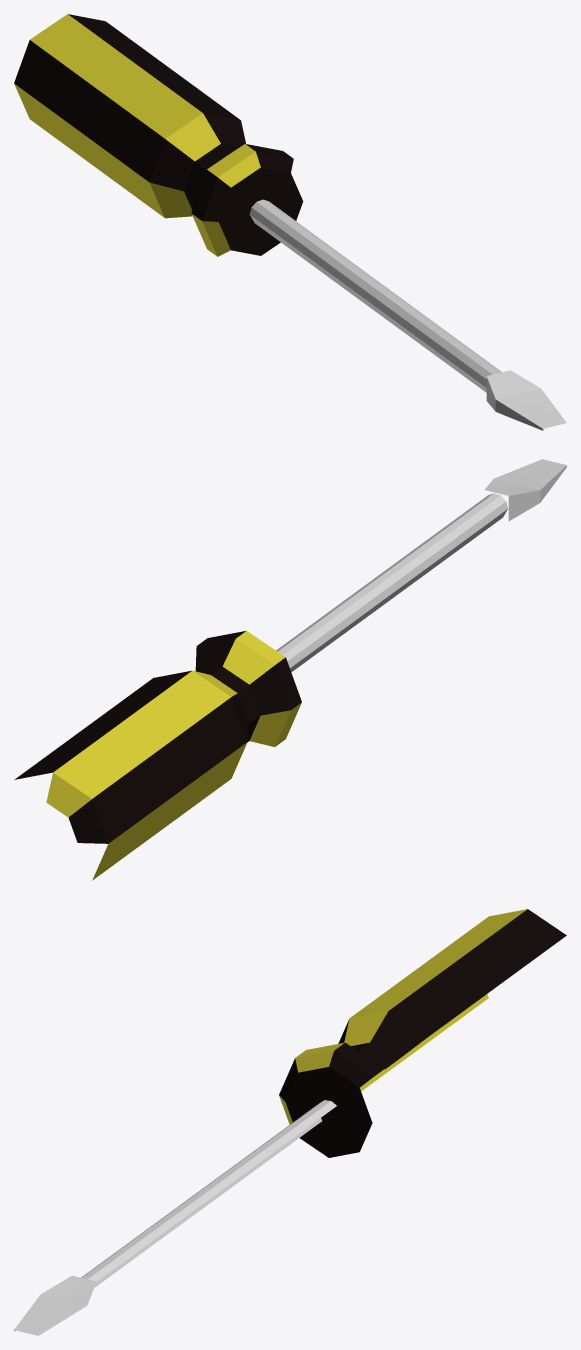
File: screw_driver.fbx
The picture shows the model from 3 angles, top to bottom: view 1: azimuth 30°, elevation 25°; view 2: azimuth 150°, elevation 25°; view 3: azimuth 330°, elevation 25°; orthographic projection. The views are drawn at different scales.
Parts seen in each view (by area): view 1: screw, driver; view 2: screw, driver; view 3: screw, driver.
Part boxes in pixels (x1,y1,x2,y2): screw: (14, 14, 303, 256); driver: (249, 199, 566, 430); screw: (14, 630, 301, 880); driver: (276, 459, 566, 672); screw: (279, 909, 566, 1157); driver: (14, 1100, 336, 1335).
Size of the model in its own units: 6.28 by 6.28 by 55.91.
